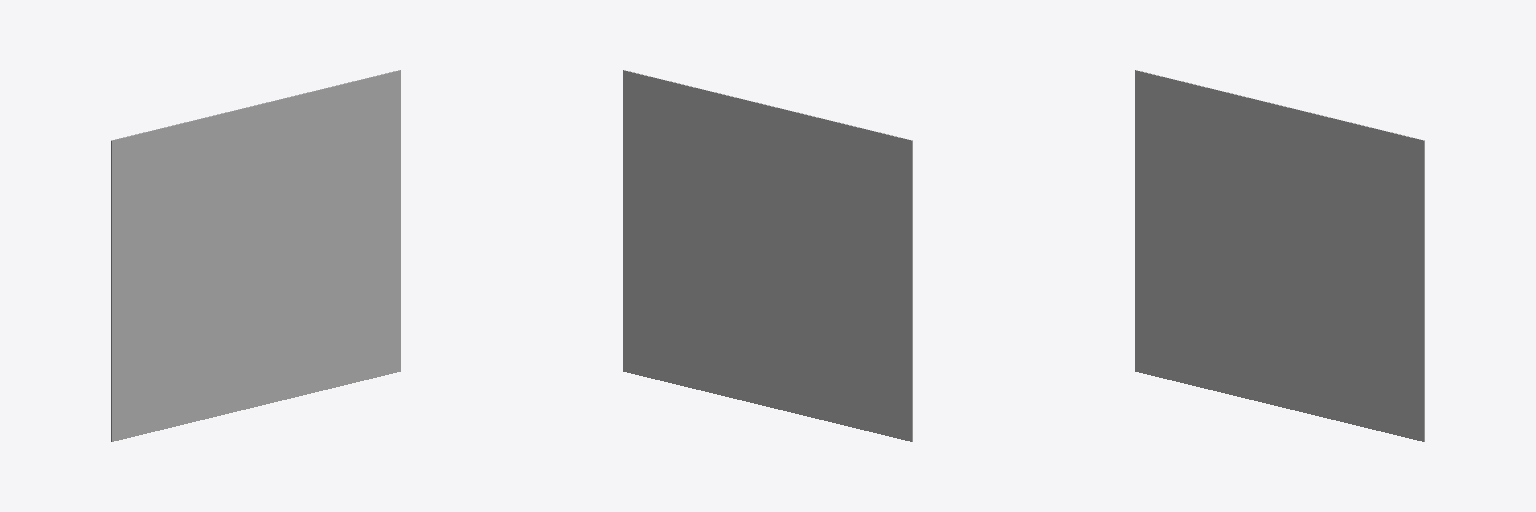
The model's file is Wall.obj.
The picture shows the model from 3 angles: view 1: azimuth 30°, elevation 25°; view 2: azimuth 150°, elevation 25°; view 3: azimuth 330°, elevation 25°; orthographic projection.
Parts seen in each view (by area): view 1: Wall; view 2: Wall; view 3: Wall.
Part boxes in pixels (left/top/right/bottom): Wall: left=111, top=70, right=400, bottom=441; Wall: left=623, top=70, right=912, bottom=441; Wall: left=1135, top=70, right=1424, bottom=441.
Bounding box in the file's own units: 25.6 × 25.5 × 0.1.